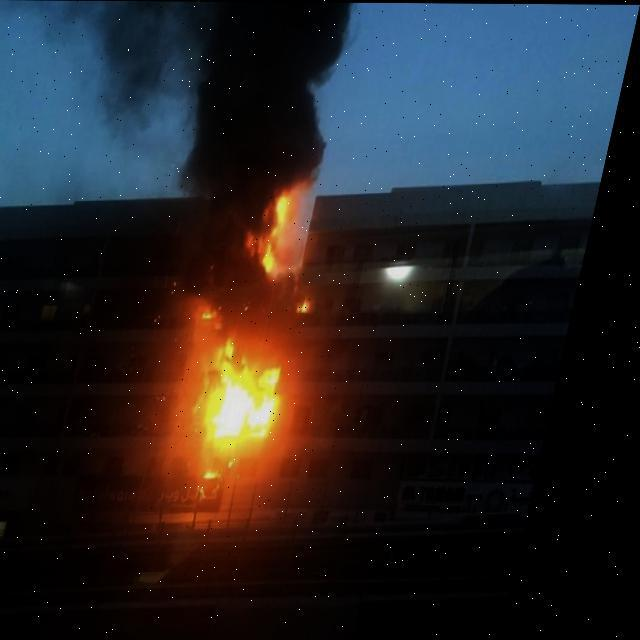Fire: (197, 344, 310, 481), (262, 188, 304, 271), (309, 296, 330, 310), (217, 305, 231, 320)
